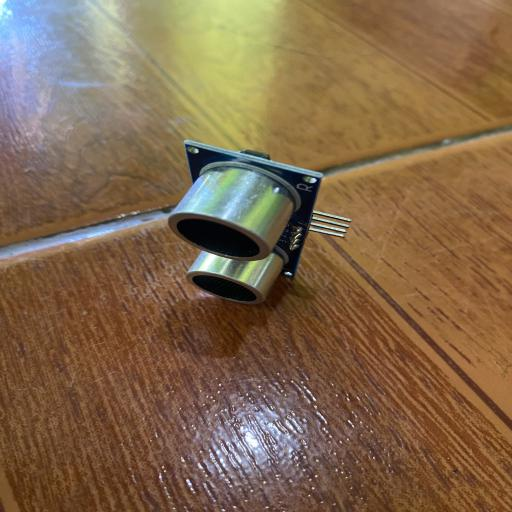Ultrasonic Sensor: (164, 137, 354, 307)
